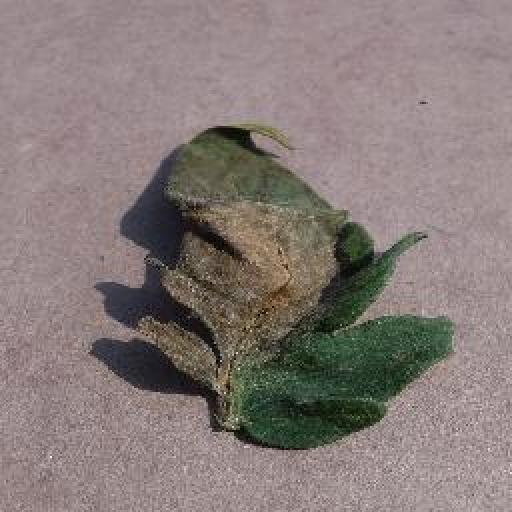disease_tomato: (134, 122, 456, 452)
